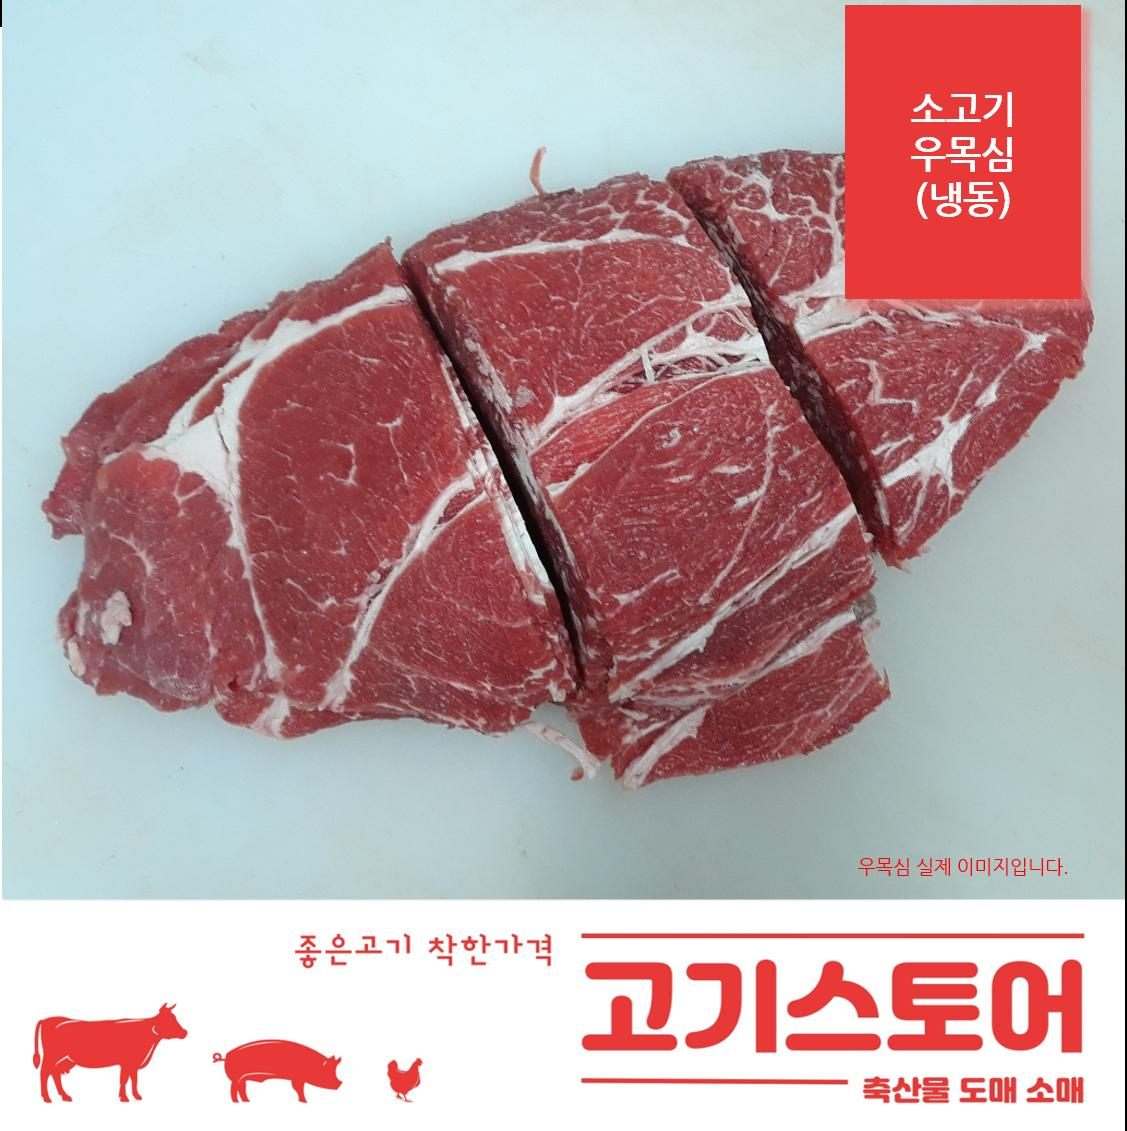beef: (171, 558, 925, 1131), (834, 373, 1127, 1131)
